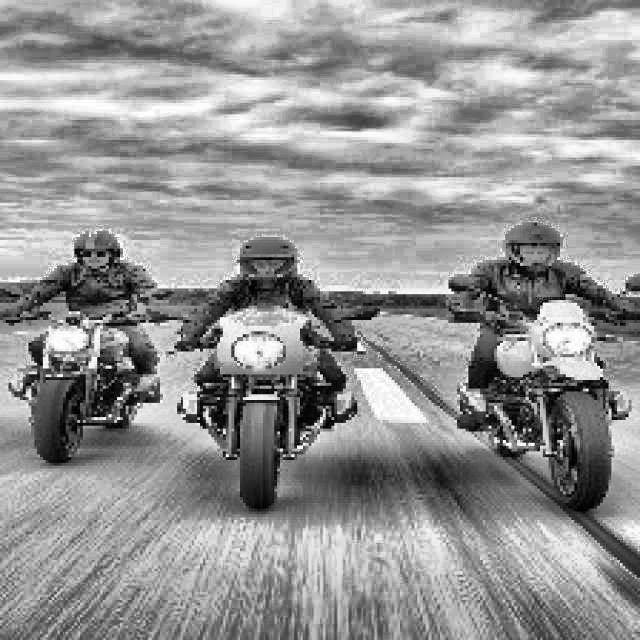motorcycle: (431, 267, 640, 511), (174, 287, 376, 510), (0, 273, 172, 467)
